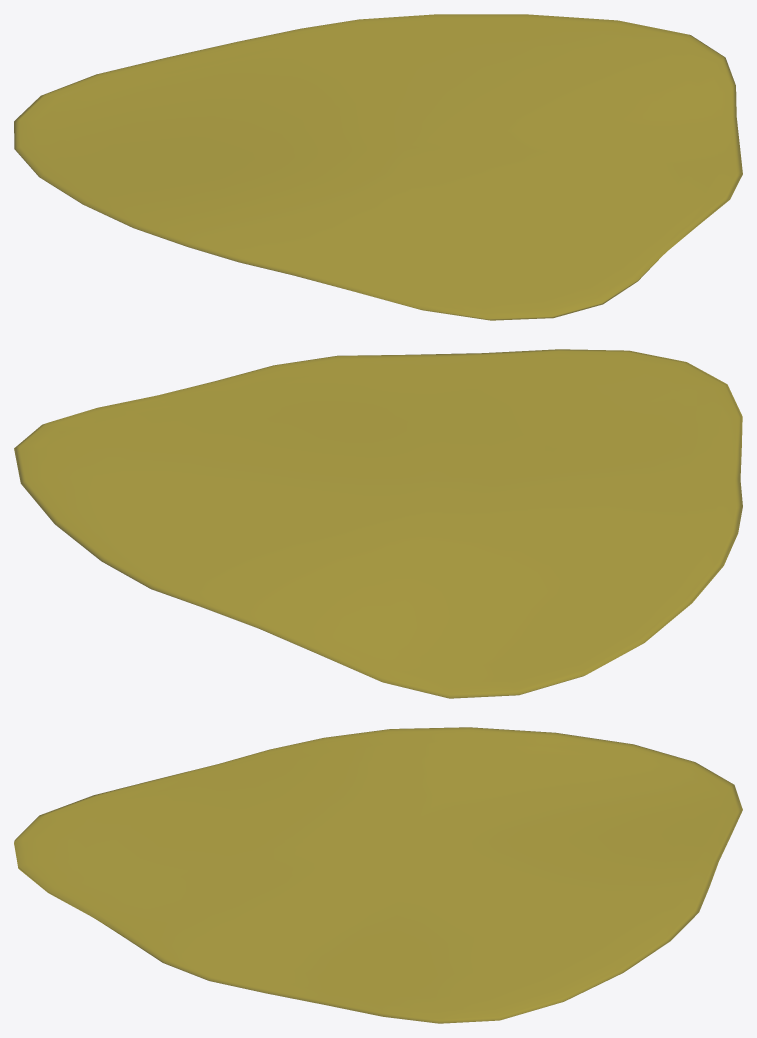
The model's file is stikyglue.glb.
The picture shows the model from 3 angles, top to bottom: view 1: azimuth 30°, elevation 25°; view 2: azimuth 150°, elevation 25°; view 3: azimuth 270°, elevation 25°; orthographic projection. The views are drawn at different scales.
Parts seen in each view (by area): view 1: Sphere.001; view 2: Sphere.001; view 3: Sphere.001.
Boxes of the visible parts, x1,y1,x2,y2 form: Sphere.001: [14, 14, 742, 320]; Sphere.001: [14, 349, 742, 698]; Sphere.001: [14, 727, 742, 1023].
Size of the model in its own units: 0.9415 by 0.0526 by 0.965.
